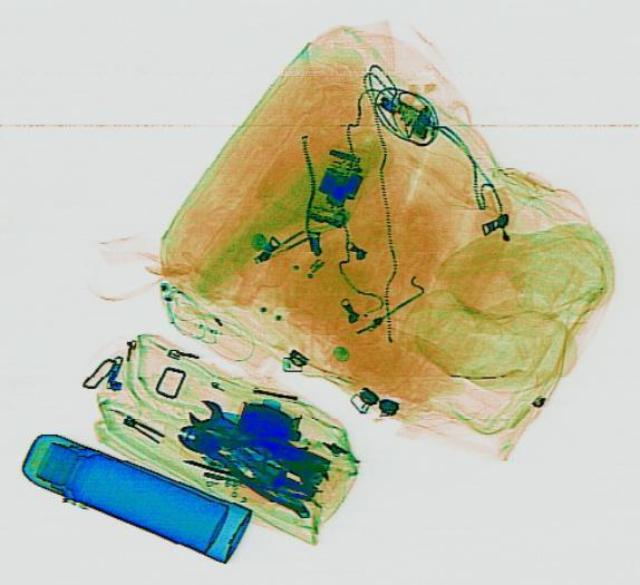Pliers: (168, 400, 336, 519)
Wrench: (178, 391, 298, 471)
